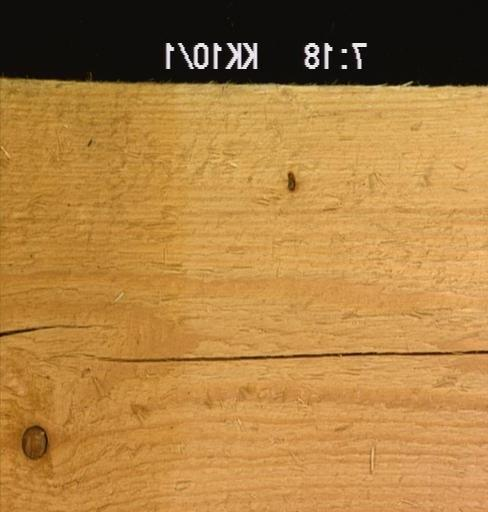dry_knot: (19, 423, 48, 460), (284, 168, 297, 192)
split: (94, 348, 486, 363), (0, 322, 106, 337)
